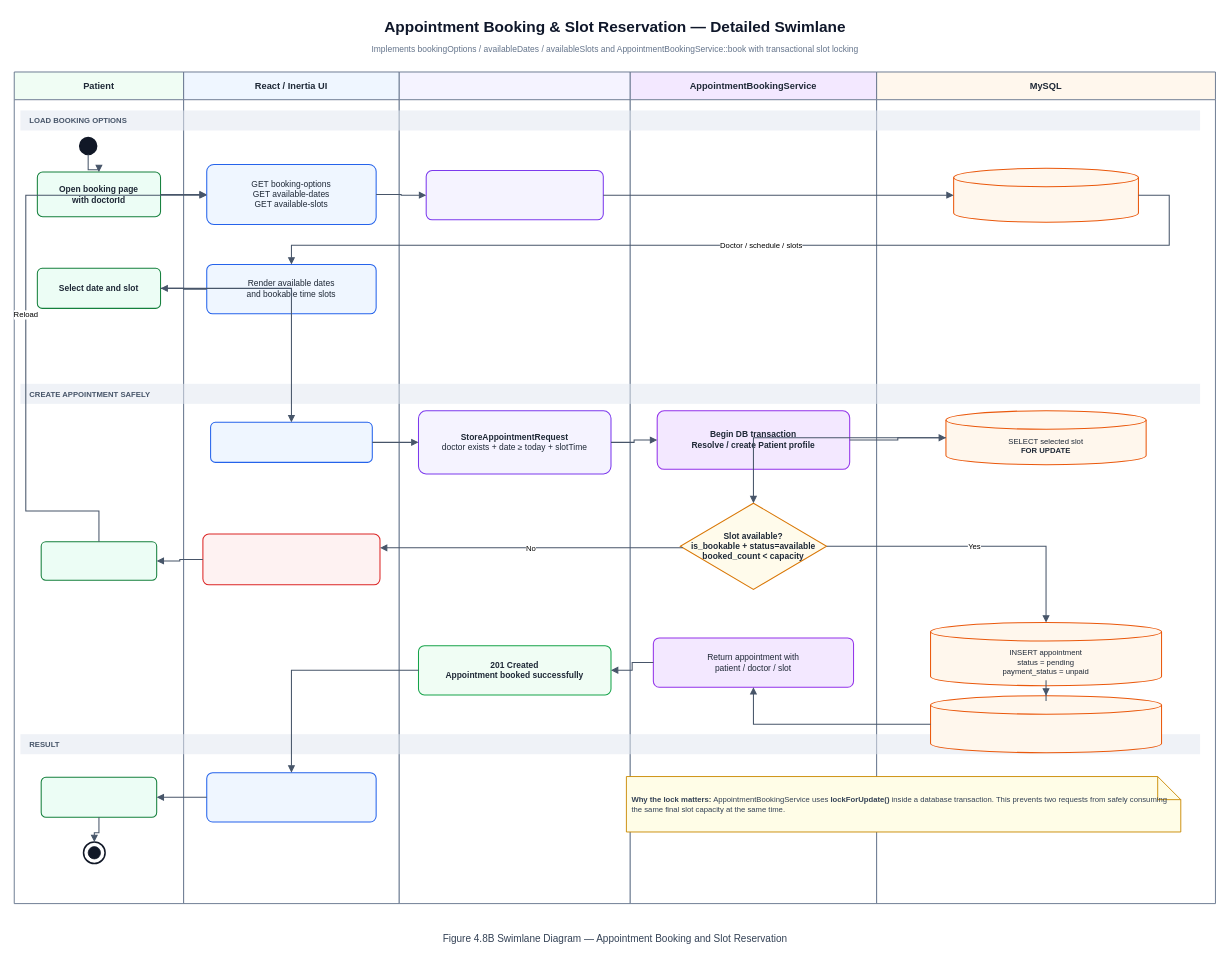
Image size: 1229x963. Some labels were removed from this diagram. The box of each missing label's shape, as (x1, y1, x2, y2) in pixels:
AppointmentController: (398, 71, 630, 904)
Booking visible: (40, 776, 157, 818)
Increment booked_count status = booked when capacity reached: (930, 695, 1162, 753)
Load doctor + active schedule Build slot query: (425, 170, 603, 220)
POST /appointment/book: (210, 421, 372, 463)
Refresh slot list: (40, 541, 157, 580)
SELECT doctors / schedules SELECT appointment_slots: (953, 167, 1139, 222)
Show booking reference and patient dashboard: (206, 772, 376, 822)
Validation error: slot already booked / unavailable: (202, 533, 380, 585)
